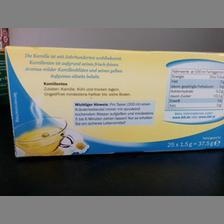Tee: (4, 44, 224, 160)
